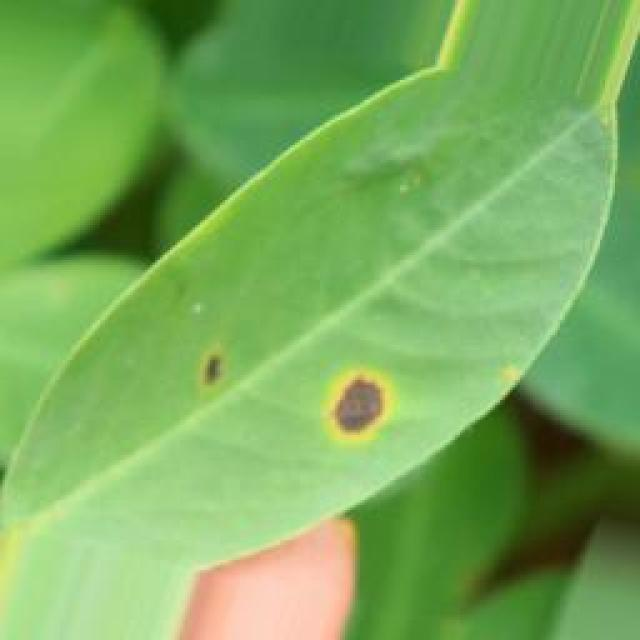Sigatoka: (262, 358, 400, 456), (154, 312, 252, 403)
